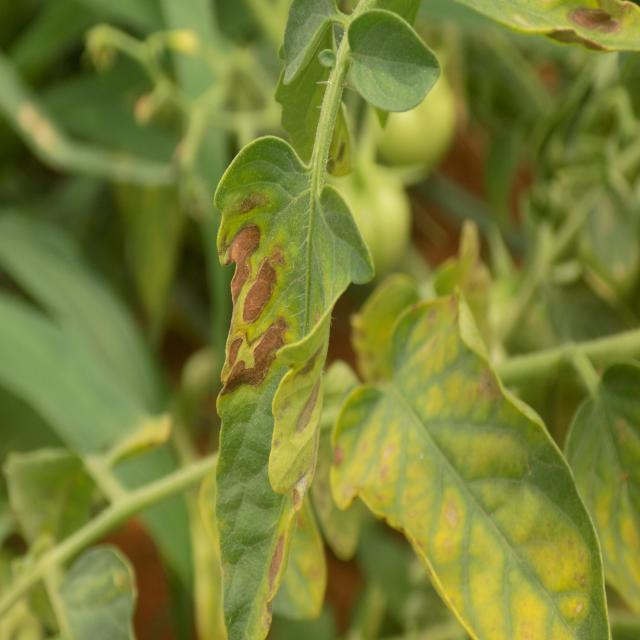tomato_early blight: (338, 287, 615, 640), (205, 134, 371, 640)
